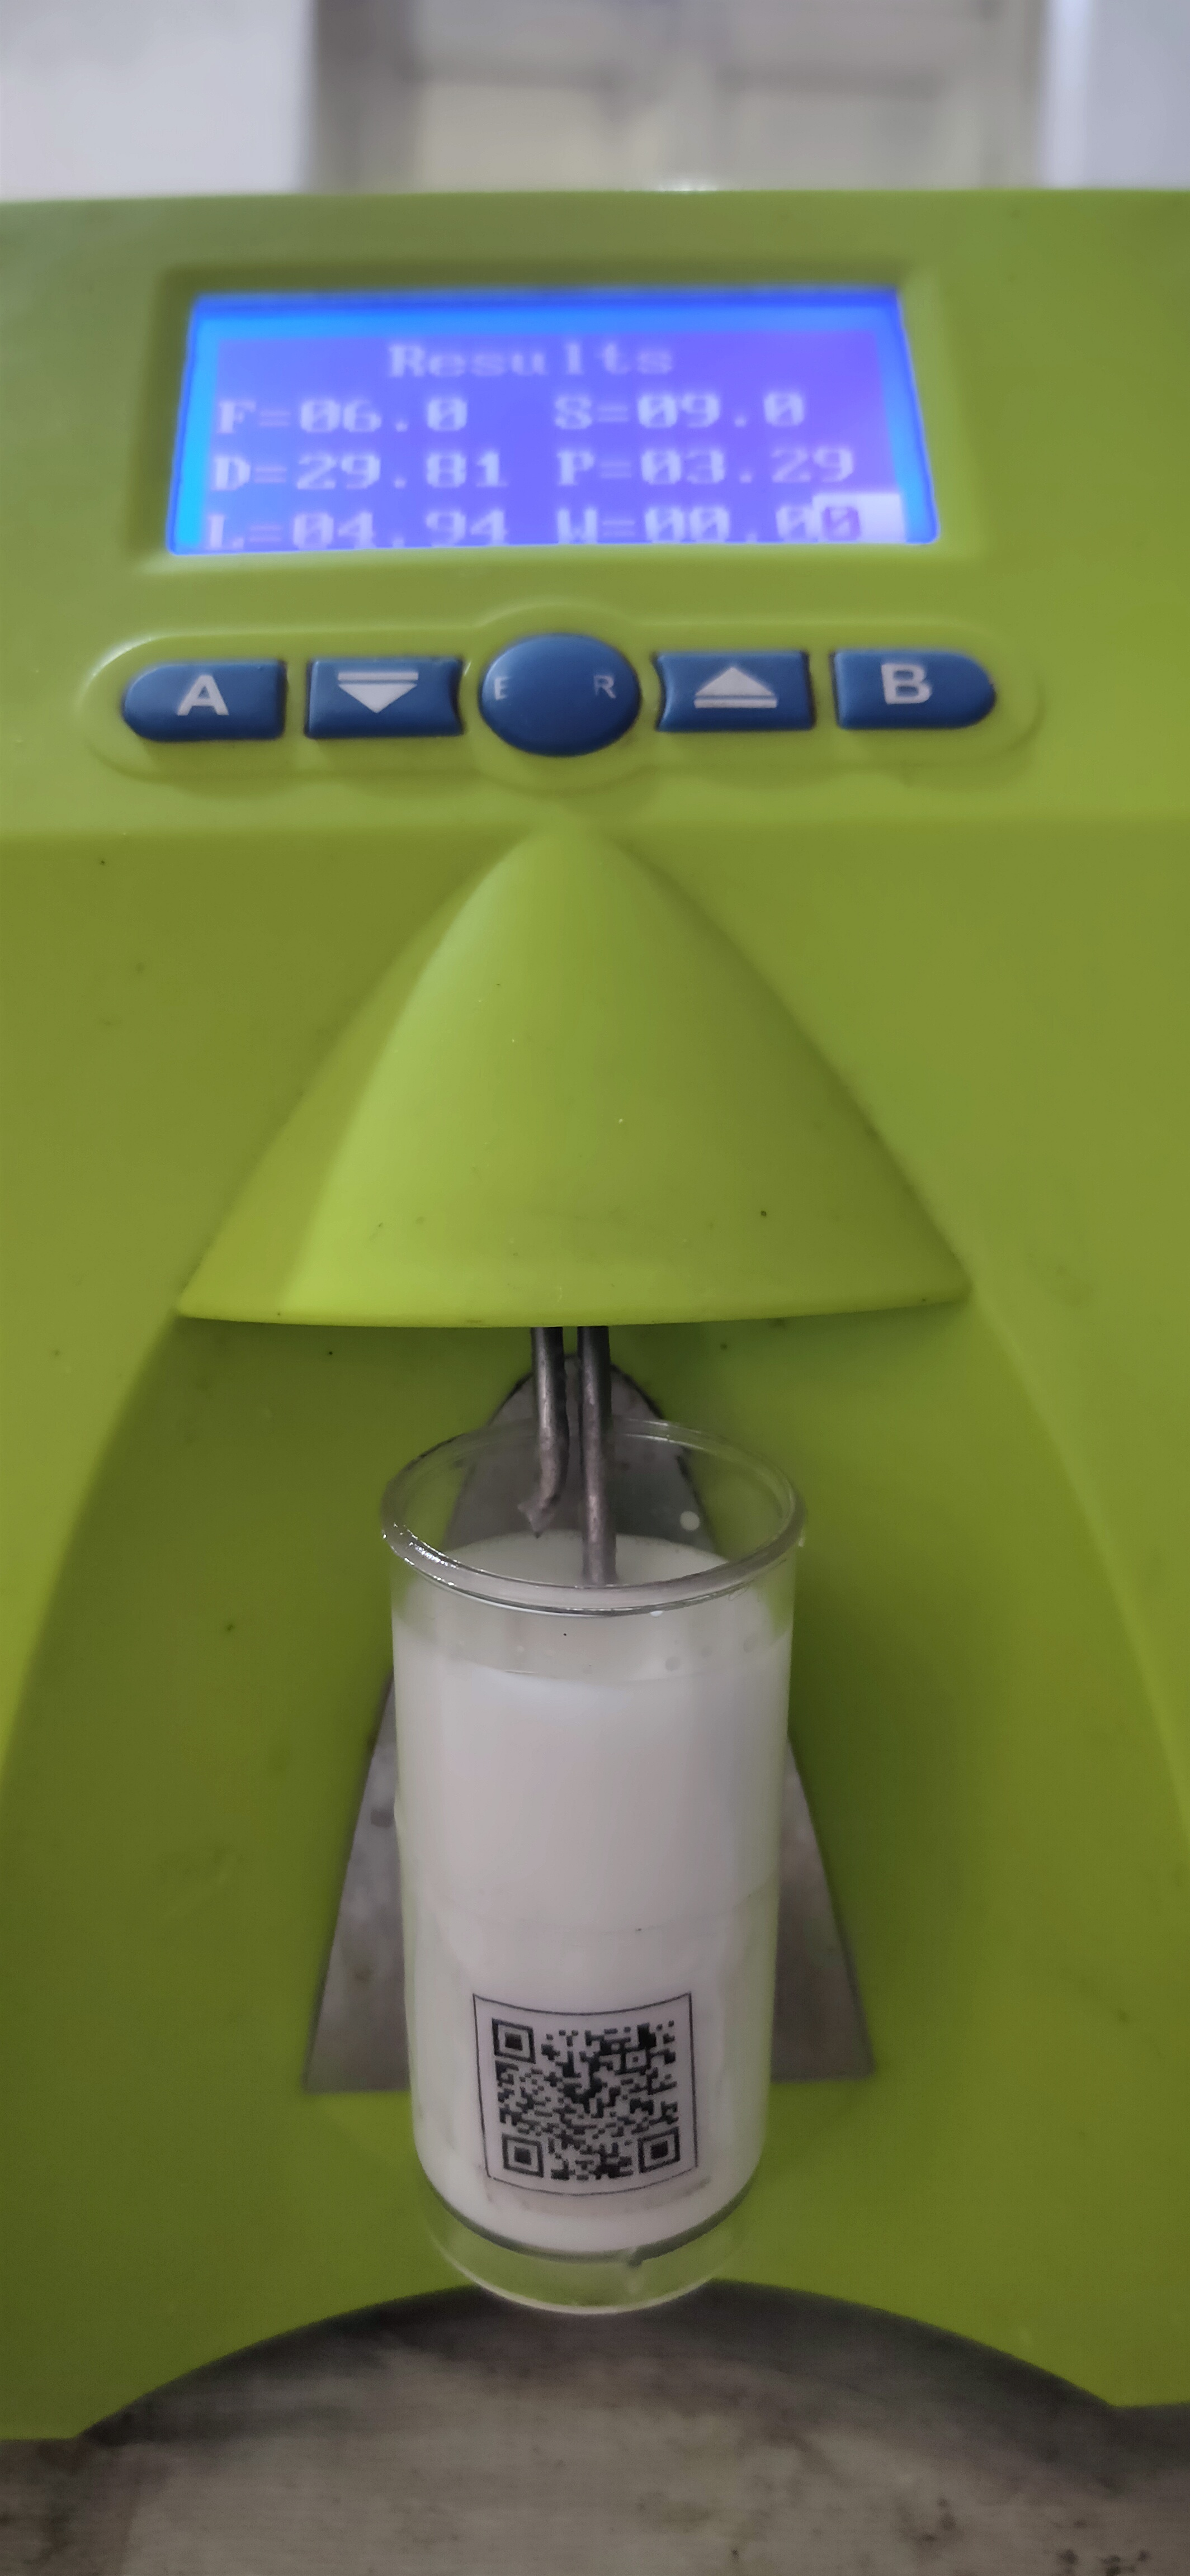lcd: (173, 294, 952, 577)
qr: (468, 1994, 720, 2226)
